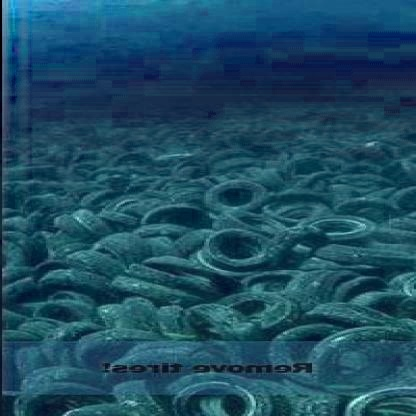tire: (150, 222, 291, 272), (268, 201, 400, 250), (194, 286, 326, 332), (164, 379, 287, 415), (87, 189, 173, 220), (206, 182, 260, 214)
